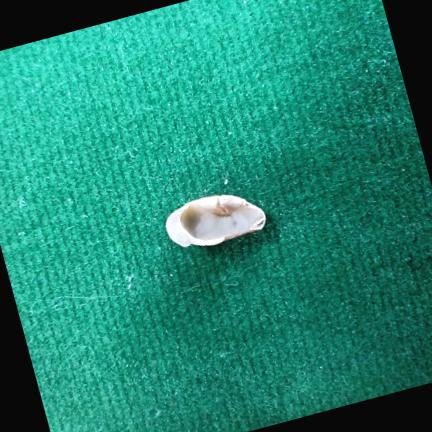shell: (166, 194, 265, 246)
